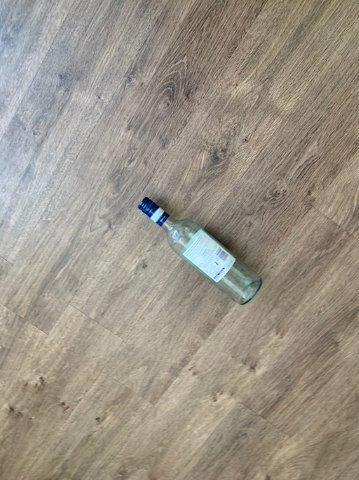botolkaca: (138, 197, 261, 304)
